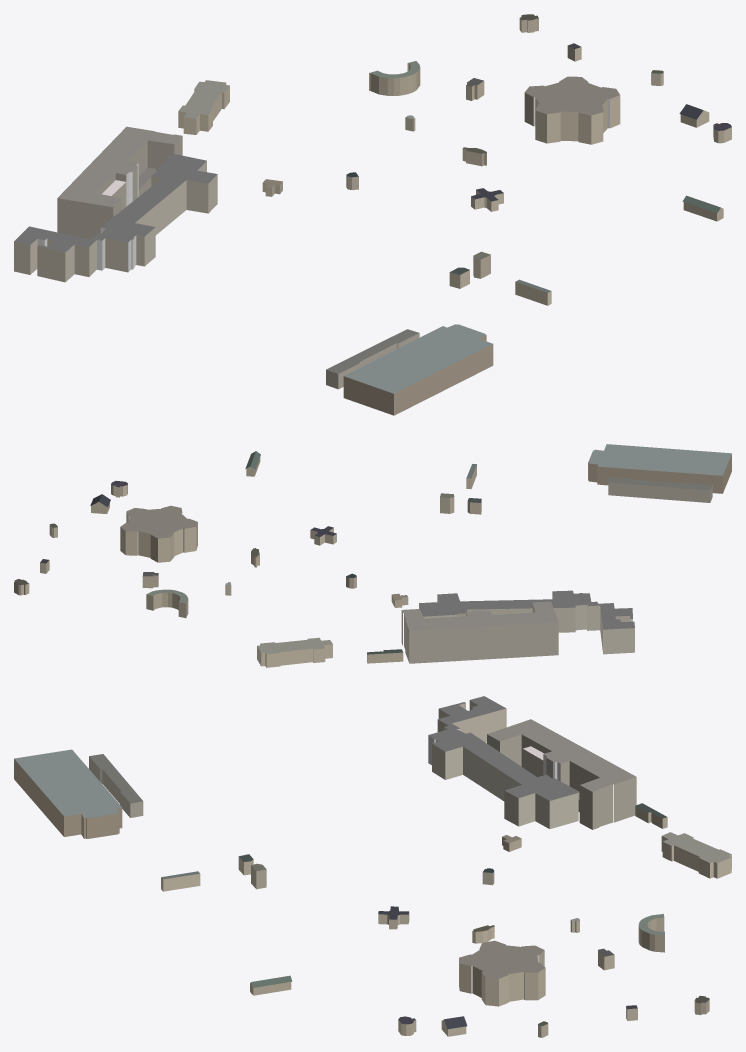
3 renders of one model, top to bottom at view 1: azimuth 30°, elevation 25°; view 2: azimuth 150°, elevation 25°; view 3: azimuth 270°, elevation 25°, orthographic. The views are drawn at different scales.
Parts seen in each view (by area): view 1: tuile; view 2: tuile; view 3: tuile.
Boxes of the visible parts, x1,y1,x2,y2 form: tuile: (14,14,731,415); tuile: (14,444,731,667); tuile: (14,696,731,1037).
Size of the model in its own units: 280 by 16.63 by 271.
